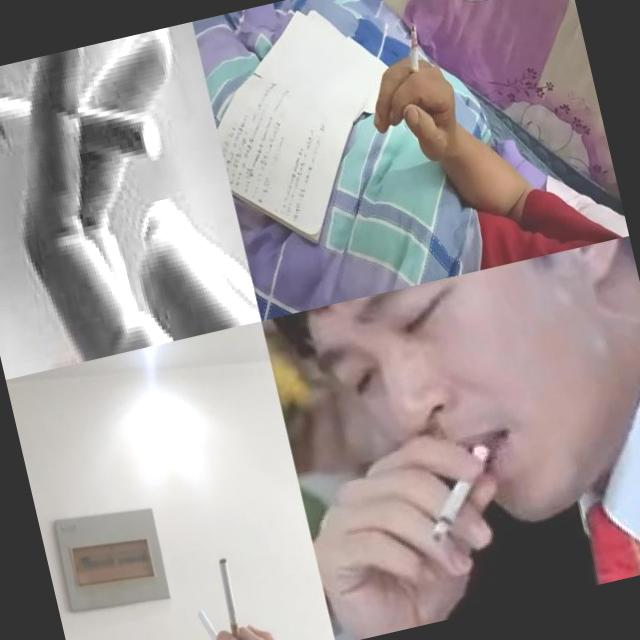cigarette: (0, 60, 164, 199), (414, 438, 508, 542), (213, 557, 247, 640), (395, 21, 430, 85), (196, 604, 233, 640)
